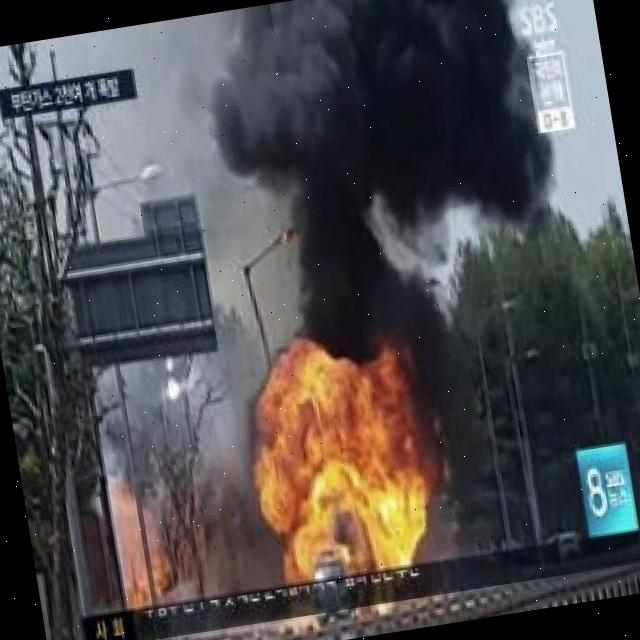fire: (247, 339, 439, 592)
